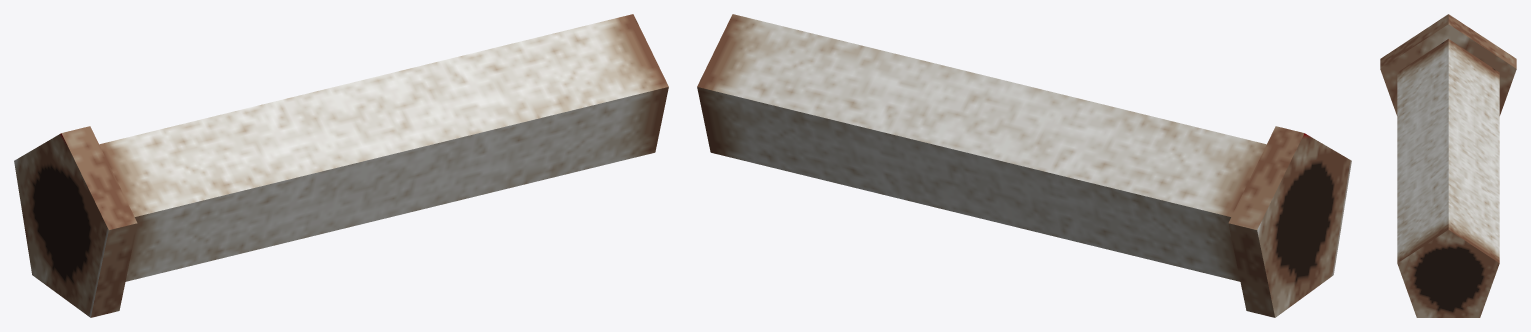
The model's file is Pipe2.obj.
The picture shows the model from 3 angles, left to right: view 1: azimuth 30°, elevation 25°; view 2: azimuth 150°, elevation 25°; view 3: azimuth 270°, elevation 25°; orthographic projection. The views are drawn at different scales.
Parts seen in each view (by area): view 1: Pipe_Long; view 2: Pipe_Long; view 3: Pipe_Long.
Boxes of the visible parts, <box> form: Pipe_Long: <box>14,14,668,317</box>; Pipe_Long: <box>697,14,1351,317</box>; Pipe_Long: <box>1380,14,1516,317</box>.
Size of the model in its own units: 0.9937 by 0.2714 by 0.2853.
Materials: 1 (1 with a texture image).
